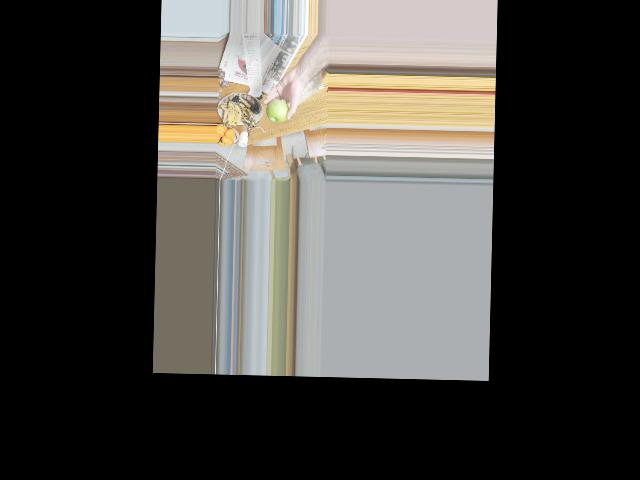apple: (266, 100, 289, 124)
